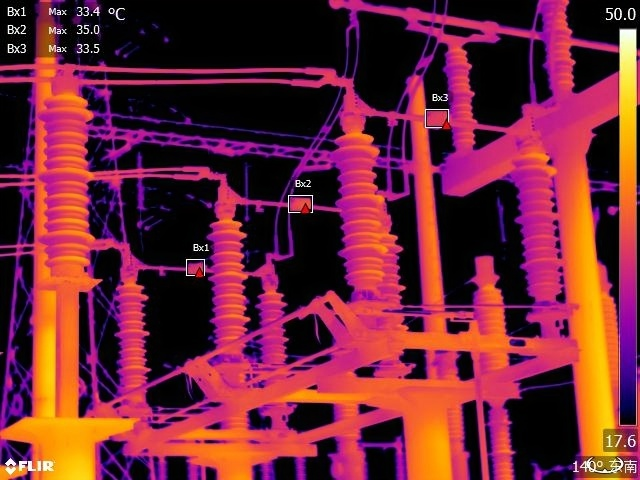post insulator: (37, 90, 104, 275), (328, 130, 386, 298), (509, 132, 563, 297), (207, 215, 254, 357), (111, 282, 155, 402), (374, 227, 410, 372), (254, 288, 292, 407), (535, 1, 582, 90), (442, 38, 479, 146), (486, 405, 521, 480), (329, 396, 358, 444)
switch: (335, 92, 510, 141), (117, 251, 280, 294), (204, 192, 347, 215)
